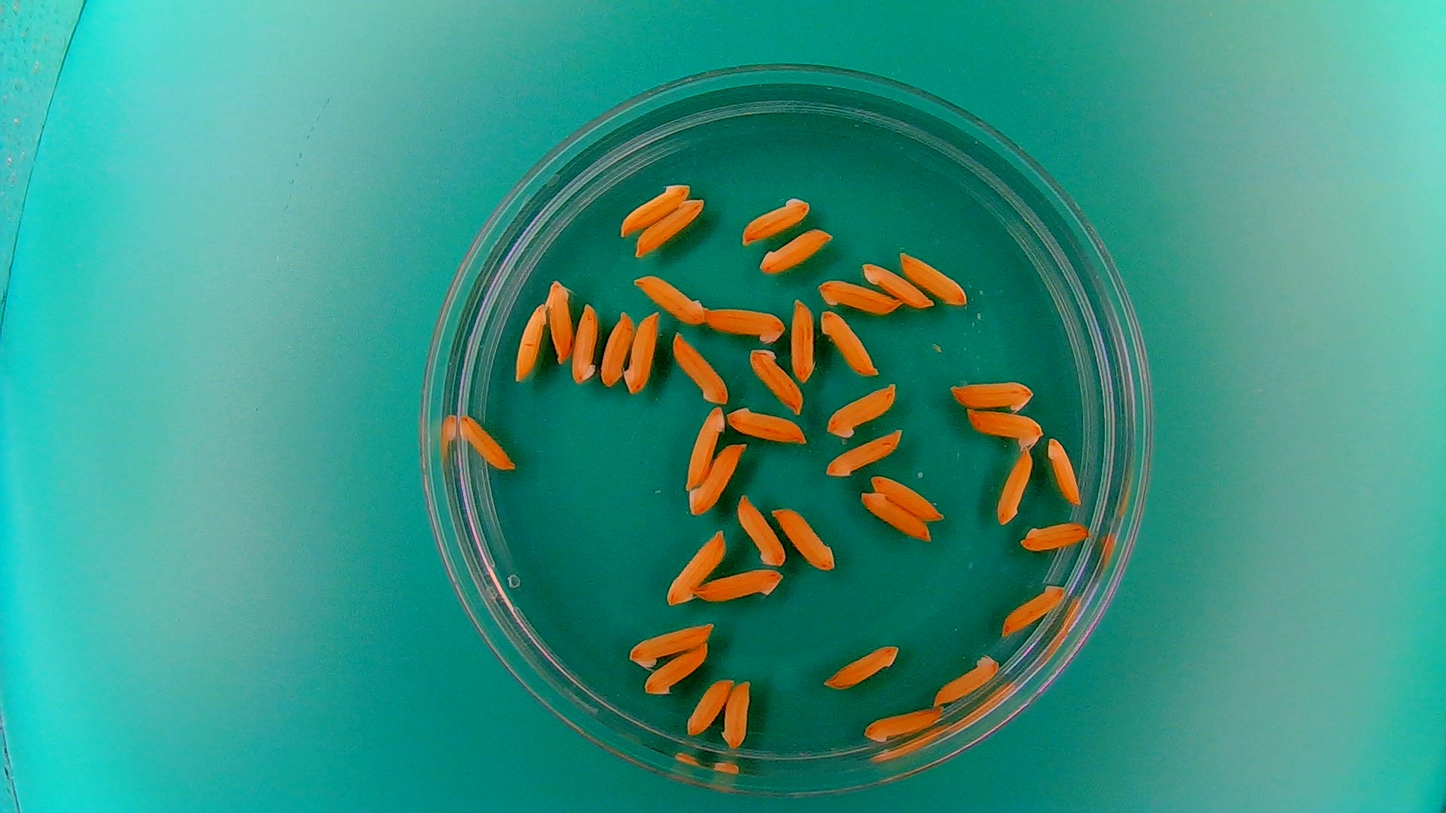no: (664, 526, 728, 606), (623, 618, 717, 672), (685, 439, 748, 518), (813, 306, 882, 378), (770, 504, 838, 573), (822, 381, 899, 440), (633, 196, 707, 257), (823, 425, 906, 478), (670, 330, 729, 404), (617, 179, 691, 237), (735, 489, 786, 571), (897, 249, 969, 307), (930, 651, 1003, 707), (746, 345, 805, 414), (857, 487, 932, 540), (632, 273, 707, 326), (738, 192, 814, 244), (999, 580, 1068, 637), (822, 641, 901, 690), (868, 472, 945, 522), (964, 406, 1045, 452), (641, 642, 710, 696), (758, 226, 834, 275), (683, 405, 726, 490), (621, 306, 661, 395), (456, 412, 516, 471), (947, 374, 1037, 413), (860, 703, 943, 745), (703, 302, 786, 344), (861, 261, 933, 309), (725, 404, 808, 444), (697, 565, 781, 604), (815, 277, 901, 315), (995, 446, 1035, 525), (597, 309, 634, 391), (685, 675, 733, 737), (1044, 434, 1083, 507), (514, 301, 549, 382), (1019, 517, 1094, 552), (545, 279, 575, 363), (718, 678, 752, 751), (571, 301, 600, 386), (789, 297, 816, 382)
